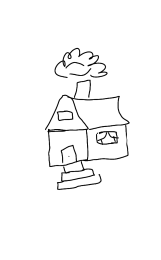door: (59, 142, 79, 166)
open_window: (94, 130, 122, 147)
roof: (41, 94, 131, 133)
smoking_chimney: (53, 45, 114, 102)
wall: (46, 127, 90, 169)
